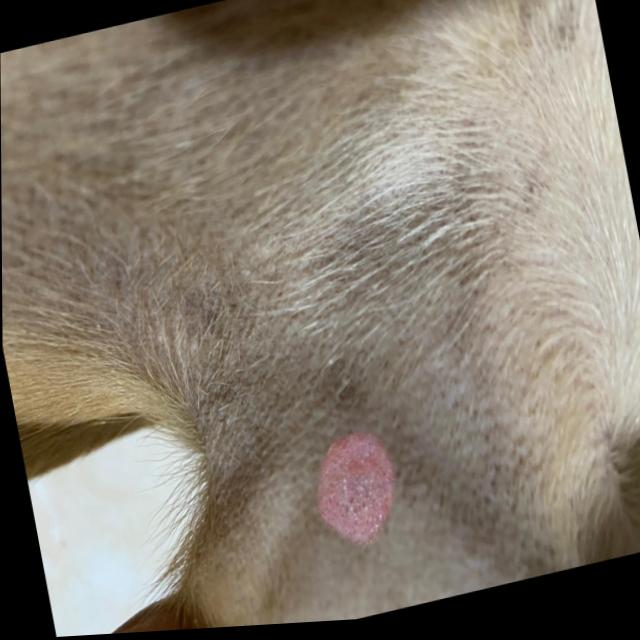ringworm: (286, 406, 438, 607)
